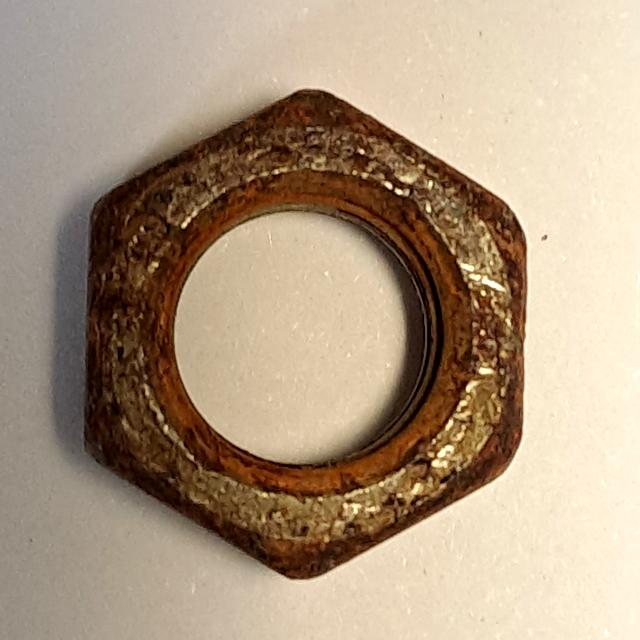Rust: (74, 68, 536, 590)
